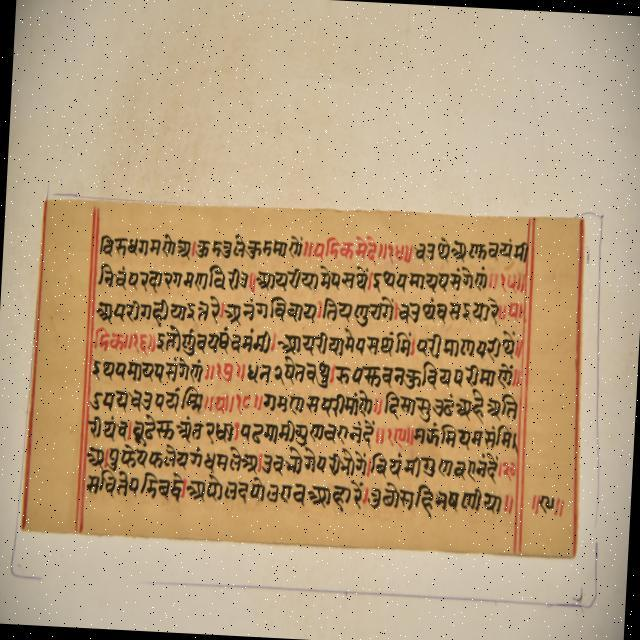text_paragraph: (19, 197, 583, 559)
